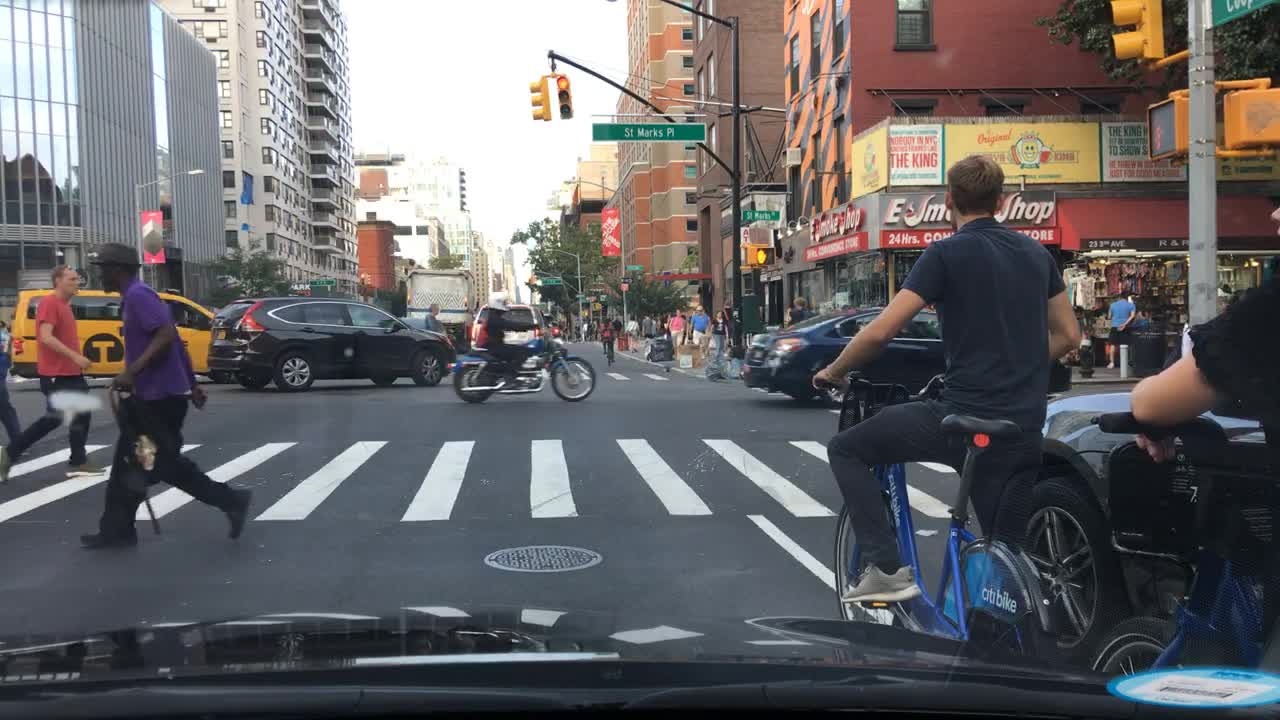bike: (807, 373, 1072, 665), (1082, 403, 1279, 684), (605, 337, 618, 368)
car: (1036, 386, 1278, 669), (740, 301, 1074, 412), (203, 293, 460, 397), (7, 284, 217, 383), (468, 302, 547, 355), (542, 311, 564, 339)
motor: (443, 324, 597, 406)
person: (74, 239, 255, 559), (1, 259, 108, 487), (1103, 288, 1138, 369), (1, 344, 17, 467), (686, 302, 713, 361), (708, 308, 731, 362), (666, 306, 687, 359), (788, 296, 819, 328), (719, 303, 737, 348), (423, 299, 446, 334), (624, 312, 642, 355), (637, 310, 653, 340), (785, 293, 799, 326), (609, 311, 624, 340), (659, 308, 670, 342), (646, 310, 659, 337), (654, 310, 665, 337), (591, 314, 602, 340), (688, 312, 696, 347), (580, 315, 591, 340), (680, 312, 688, 345), (584, 315, 594, 339)
rider: (806, 148, 1084, 610), (1121, 197, 1279, 590), (466, 299, 541, 385), (599, 317, 618, 363)
traffic light: (1220, 84, 1279, 150), (1107, 0, 1166, 63), (1144, 94, 1187, 164), (530, 75, 554, 121), (554, 74, 574, 120), (744, 241, 776, 268), (592, 301, 605, 312), (360, 272, 367, 286), (366, 273, 373, 286)
traffic sign: (591, 123, 707, 143), (1209, 0, 1279, 30), (743, 209, 779, 220), (534, 276, 564, 285), (307, 278, 336, 286), (624, 263, 645, 272), (618, 277, 634, 284), (574, 292, 586, 298)
